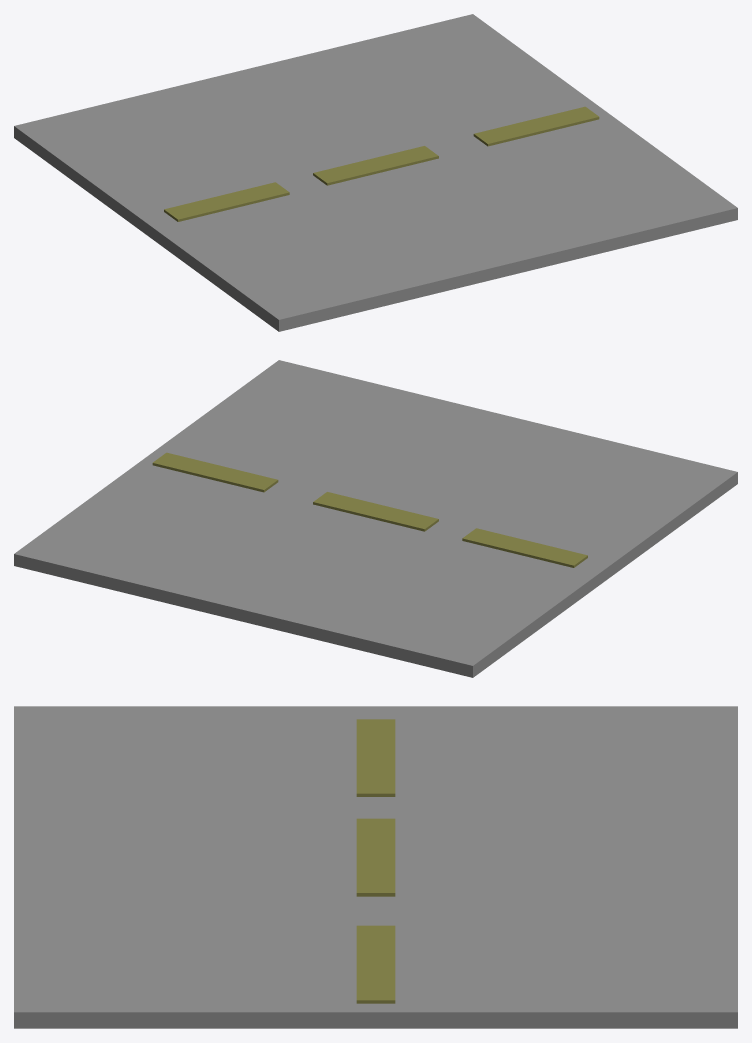
Rendered from RuaListrada.fbx.
The picture shows the model from 3 angles, top to bottom: view 1: azimuth 30°, elevation 25°; view 2: azimuth 150°, elevation 25°; view 3: azimuth 270°, elevation 25°; orthographic projection. The views are drawn at different scales.
Parts seen in each view (by area): view 1: Rua.sinalizada; view 2: Rua.sinalizada; view 3: Rua.sinalizada.
Boxes of the visible parts, x1,y1,x2,y2 form: Rua.sinalizada: (14, 14, 737, 331); Rua.sinalizada: (14, 360, 737, 677); Rua.sinalizada: (14, 706, 737, 1028).
Size of the model in its own units: 4 by 0.1206 by 4.
